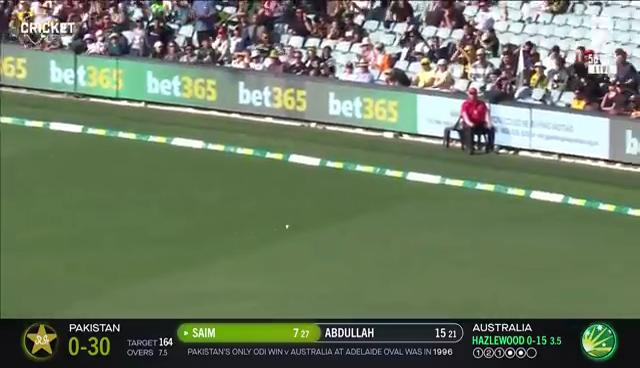ball: (279, 221, 298, 237)
